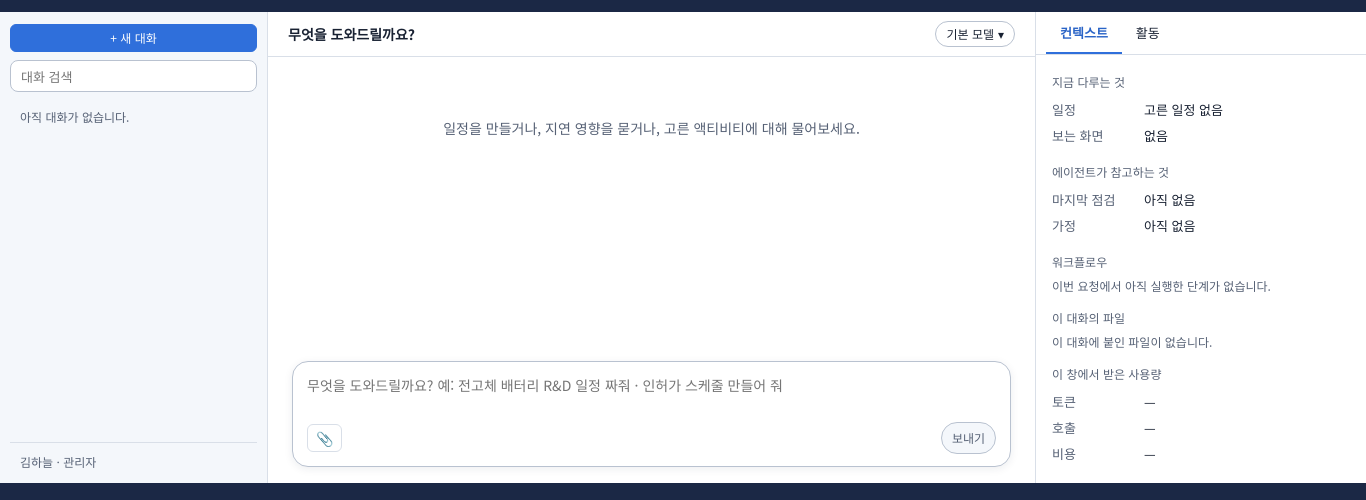
Test case: R2 · every card kind the backend sends › result card: finish, counts, assumptions and unchecked conditions (never shown as passed)
Type "q" into the text box named "에이전트에게 요청" at (652, 398), box x1=307 y1=374 x2=996 y2=422
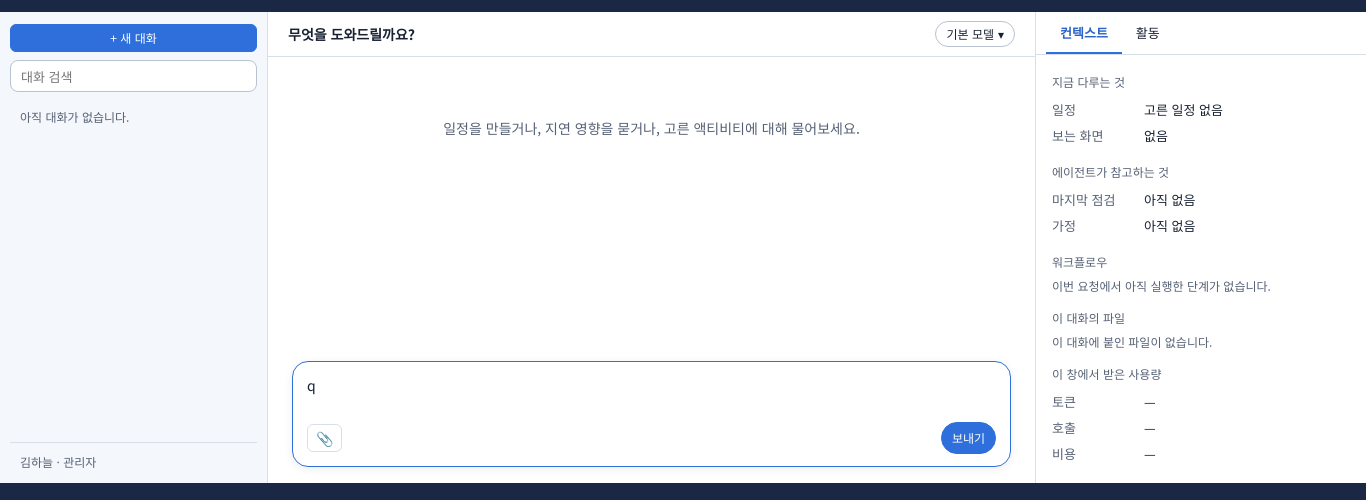
Click the button "보내기" at (968, 438), box x1=941 y1=422 x2=996 y2=454
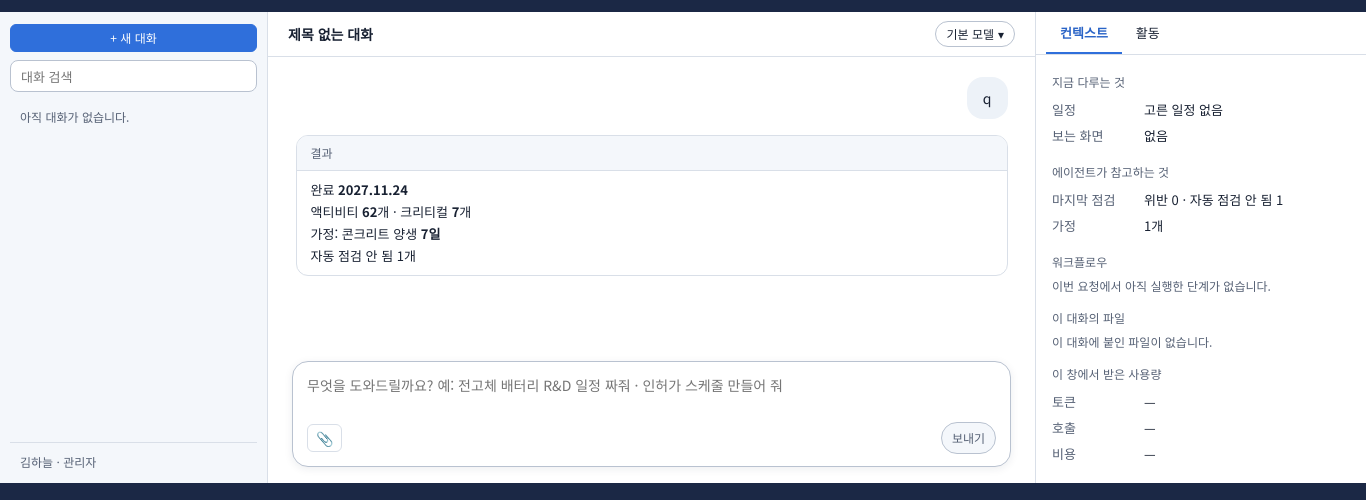
Check: the element "결과" shows "완료 2027.11.24", box x1=296 y1=135 x2=1008 y2=276
Check: the element "결과" shows "액티비티 62개 · 크리티컬 7개", box x1=296 y1=135 x2=1008 y2=276
Check: the element "결과" shows "콘크리트 양생 7일", box x1=296 y1=135 x2=1008 y2=276
